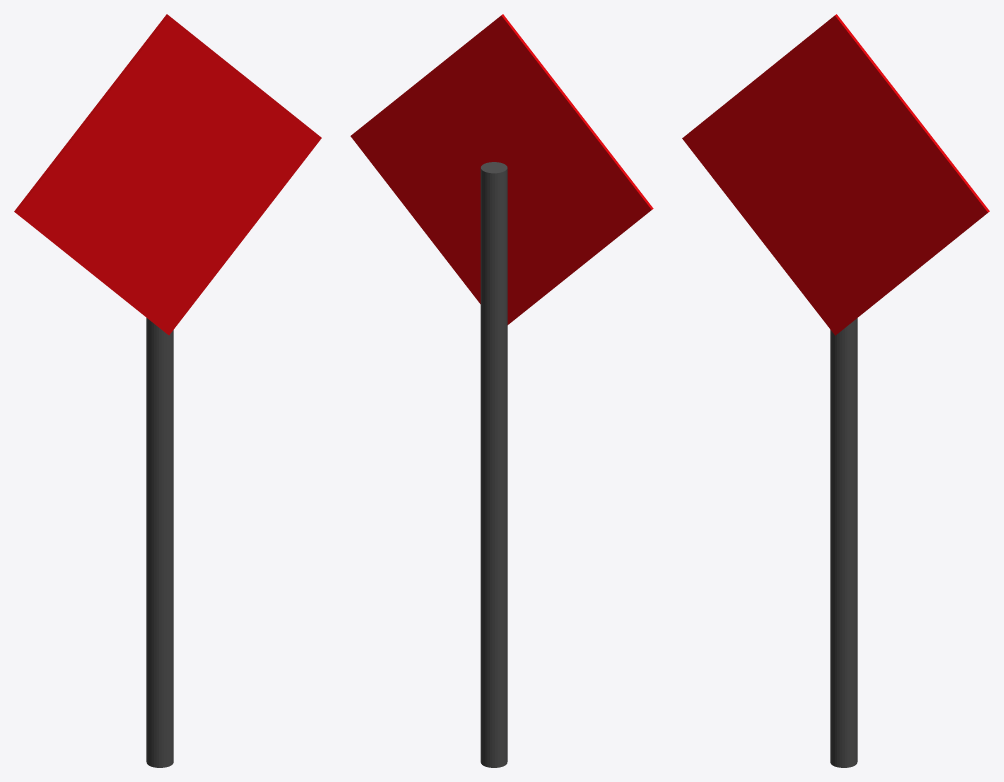
Rendered from Road Sign.fbx.
3 views of the same model, side by side, from view 1: azimuth 30°, elevation 25°; view 2: azimuth 150°, elevation 25°; view 3: azimuth 330°, elevation 25° (orthographic).
Visible parts, largest first — view 1: Plane, Cylinder; view 2: Plane, Cylinder; view 3: Plane, Cylinder.
Boxes of the visible parts, bbox=[...] form: Plane: bbox=[14, 14, 321, 335]; Cylinder: bbox=[146, 318, 173, 767]; Plane: bbox=[350, 14, 653, 324]; Cylinder: bbox=[480, 162, 507, 767]; Plane: bbox=[682, 14, 989, 335]; Cylinder: bbox=[830, 318, 857, 767].
Bounding box in the file's own units: 104 × 245 × 9.26.
